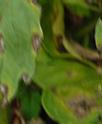Tomato Early blight leaf: (0, 0, 44, 113)
